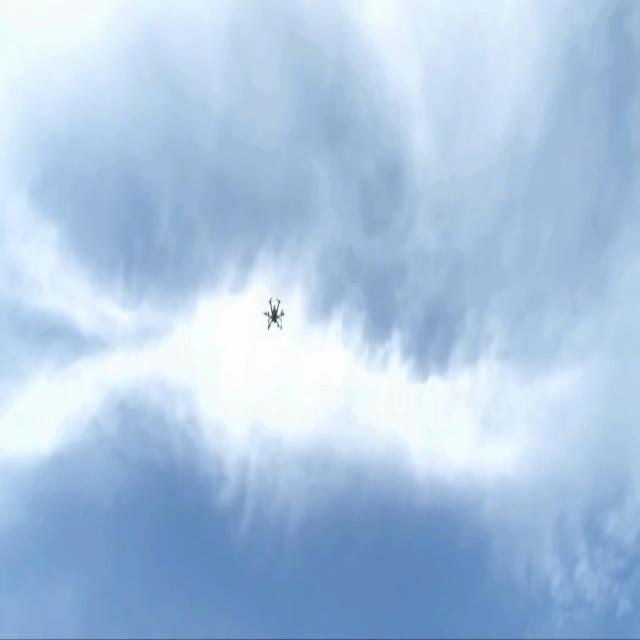drone: (263, 296, 284, 331)
